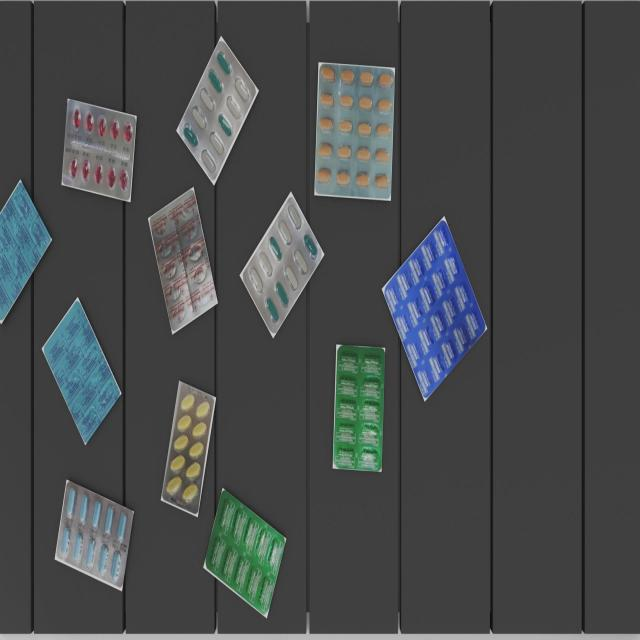blister: (384, 220, 487, 400), (41, 297, 121, 443), (176, 40, 256, 180), (314, 60, 394, 200), (243, 197, 323, 332), (207, 490, 285, 621), (148, 190, 218, 330), (56, 481, 134, 589), (0, 180, 52, 336), (61, 97, 136, 204), (332, 341, 386, 475), (162, 386, 215, 512)
